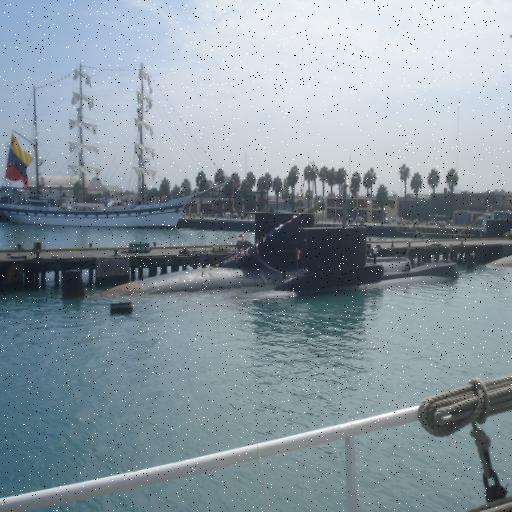submarine: (86, 206, 459, 307)
